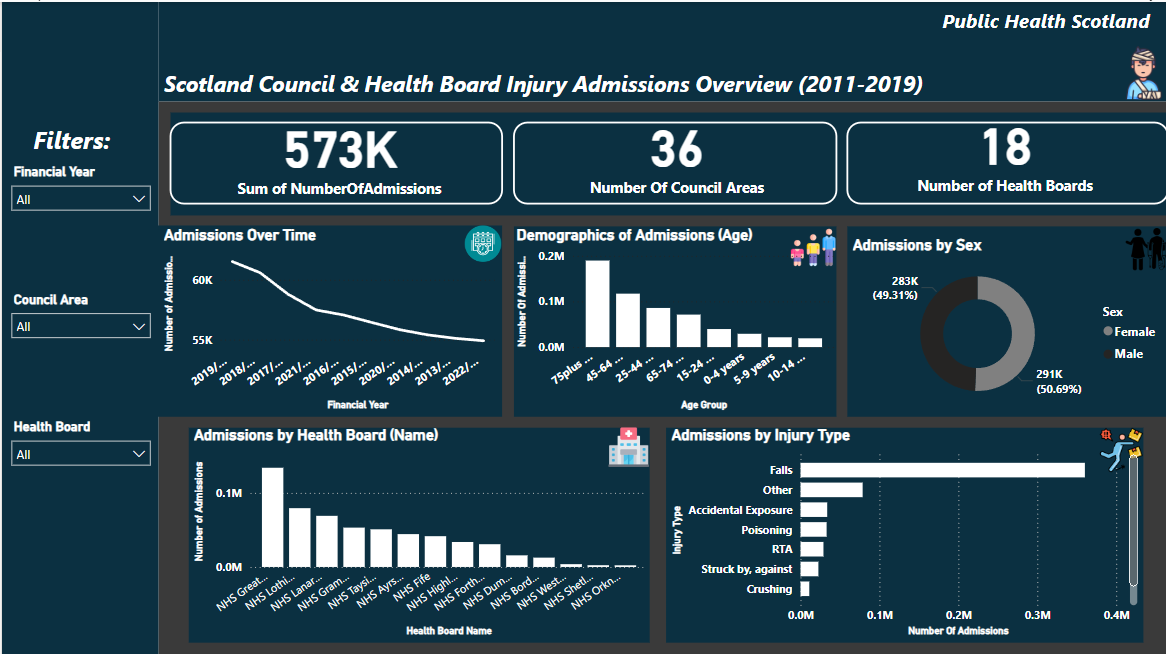

Layout of this report page (visuals, bound fields, positions):
{"tool":"powerbi","page":{"name":"Page 1","canvas":[1280,720],"ordinal":0},"visuals":[{"type":"card","fields":{"Values":["Sum(ui_admissions_2023 (2).NumberOfAdmissions)"]},"box":[194.9,113.9,351.3,104.3],"z":0},{"type":"card","fields":{"Values":["Council Area.Number Of Council Areas"]},"box":[584.6,112.5,312.9,105.7],"z":1000},{"type":"card","fields":{"Values":["Health Board.Number of Health Boards"]},"box":[960.6,108.4,281.3,109.8],"z":2000},{"type":"clusteredColumnChart","title":"Admissions by Health Board (Name)","fields":{"Y":["Sum(ui_admissions_2023 (2).NumberOfAdmissions)"],"Category":["Health Board.HBName"]},"box":[205.8,465.2,507.7,236],"z":3000},{"type":"columnChart","title":"Demographics of Admissions (Age)","fields":{"Y":["Sum(ui_admissions_2023 (2).NumberOfAdmissions)"],"Category":["ui_admissions_2023 (2).AgeGroup"]},"box":[559.9,245.6,359.5,207.2],"z":4000},{"type":"lineChart","title":"Admissions Over Time","fields":{"Y":["Sum(ui_admissions_2023 (2).NumberOfAdmissions)"],"Category":["ui_admissions_2023 (2).FinancialYear"]},"box":[172.9,245.6,373.2,207.2],"z":5000},{"type":"clusteredBarChart","title":"Admissions by Injury Type","fields":{"Category":["ui_admissions_2023 (2).InjuryType"],"Y":["Sum(ui_admissions_2023 (2).NumberOfAdmissions)"]},"box":[730,465.2,521.4,236],"z":6000},{"type":"donutChart","title":"Admissions by Sex","fields":{"Category":["ui_admissions_2023 (2).Sex"],"Y":["Sum(ui_admissions_2023 (2).NumberOfAdmissions)"]},"box":[929,256.6,351.3,196.2],"z":7000},{"type":"textbox","box":[172.9,68.6,864.5,54.9],"z":8000},{"type":"slicer","fields":{"Values":["ui_admissions_2023 (2).FinancialYear"]},"box":[0,172.9,172.9,72.7],"z":9000},{"type":"slicer","fields":{"Values":["Council Area.CAName"]},"box":[0,312.9,172.9,74.1],"z":10000},{"type":"slicer","fields":{"Values":["Health Board.HBName"]},"box":[0,452.8,172.9,74.1],"z":11000},{"type":"textbox","box":[0,127.6,172.9,45.3],"z":12000},{"type":"textbox","box":[1015.4,0,264.8,45.3],"z":12001}]}

Visuals, with their boxes in screenshot pixels (x1, y1, x2, y2), scaled from the page's 1280x720 canvas onto the 1166x654 screenshot:
card - Sum(ui_admissions_2023 (2).NumberOfAdmissions): (178,103,498,198)
card - Council Area.Number Of Council Areas: (533,102,818,198)
card - Health Board.Number of Health Boards: (875,98,1131,198)
"Admissions by Health Board (Name)" clusteredColumnChart: (187,423,650,637)
"Demographics of Admissions (Age)" columnChart: (510,223,838,411)
"Admissions Over Time" lineChart: (158,223,497,411)
"Admissions by Injury Type" clusteredBarChart: (665,423,1140,637)
"Admissions by Sex" donutChart: (846,233,1165,411)
textbox: (158,62,945,112)
slicer - ui_admissions_2023 (2).FinancialYear: (0,157,158,223)
slicer - Council Area.CAName: (0,284,158,352)
slicer - Health Board.HBName: (0,411,158,479)
textbox: (0,116,158,157)
textbox: (925,0,1165,41)
